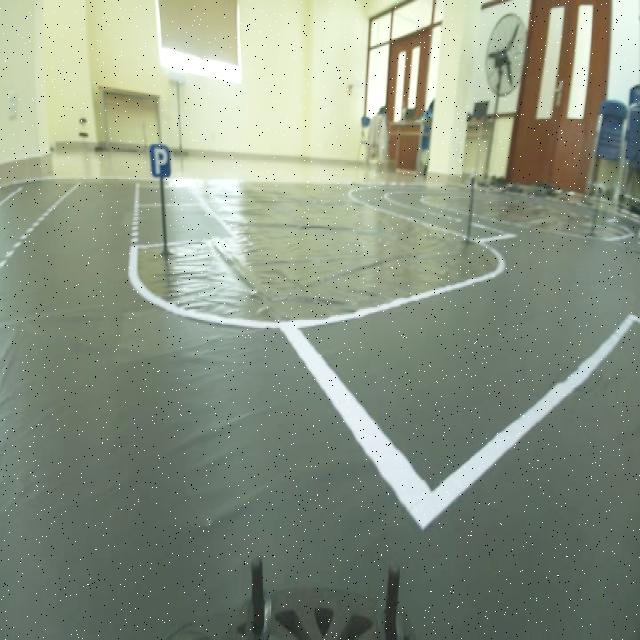parking: (146, 138, 173, 180)
